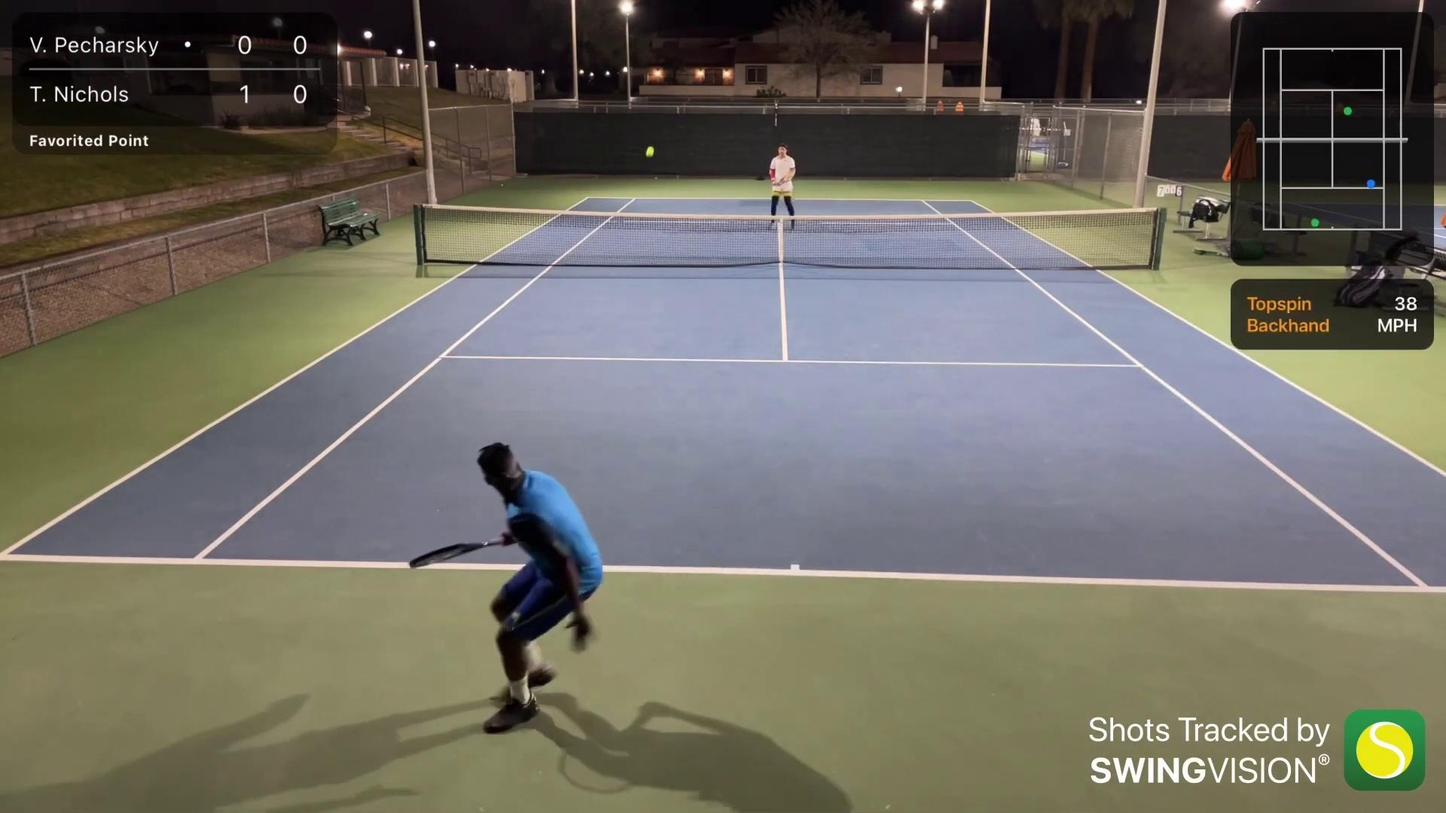ball: (642, 143, 654, 158)
